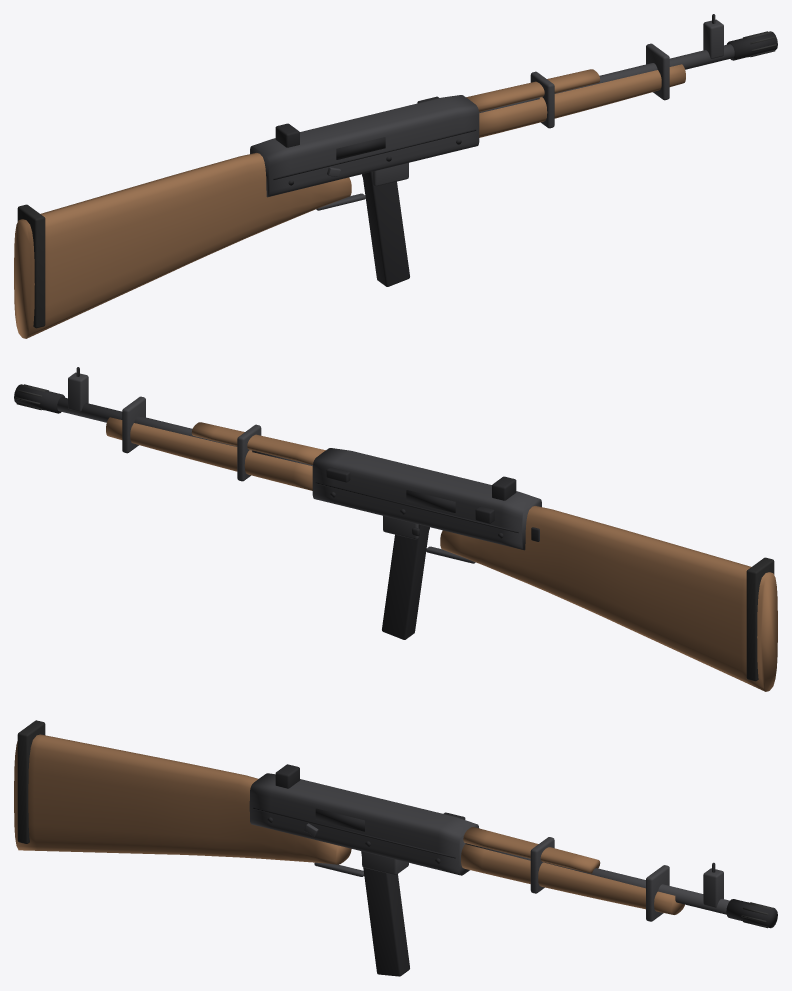
3 renders of one model, top to bottom at view 1: azimuth 30°, elevation 25°; view 2: azimuth 150°, elevation 25°; view 3: azimuth 330°, elevation 25°, orthographic.
Visible parts, largest first — view 1: SM_M14; view 2: SM_M14; view 3: SM_M14.
Boxes of the visible parts, bbox=[...] form: SM_M14: bbox=[14, 14, 777, 338]; SM_M14: bbox=[14, 367, 777, 691]; SM_M14: bbox=[14, 720, 777, 976].
Bounding box in the file's own units: 1.07 × 0.2588 × 0.067.
